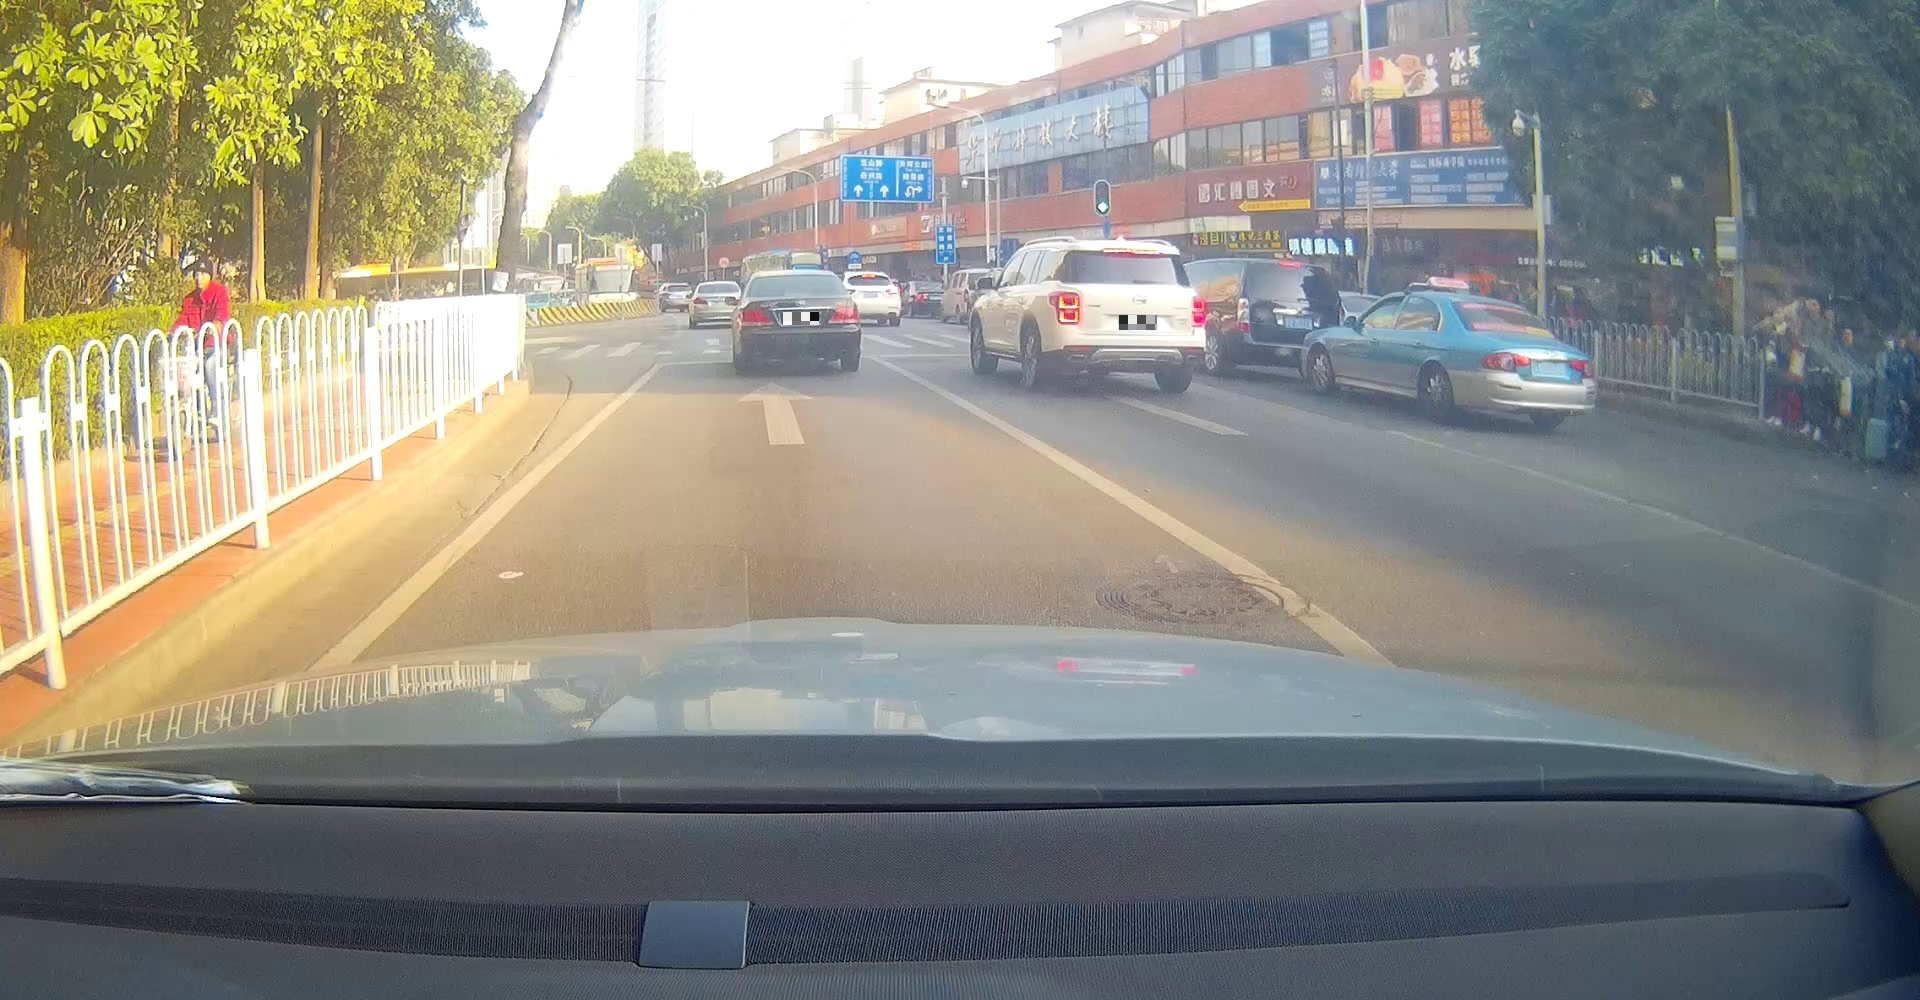L_light: (1048, 291, 1081, 325), (1481, 352, 1531, 372), (738, 308, 772, 324)
R_light: (1190, 294, 1208, 327), (1570, 357, 1597, 377), (828, 306, 860, 324)
T_light: (1103, 247, 1161, 256), (1492, 303, 1517, 308), (785, 275, 806, 280)
day-brake: (1044, 246, 1208, 392)
day-no: (1448, 294, 1597, 426), (735, 269, 861, 371)
plate_1: (783, 312, 819, 325)
plate_2: (1119, 315, 1157, 330)
